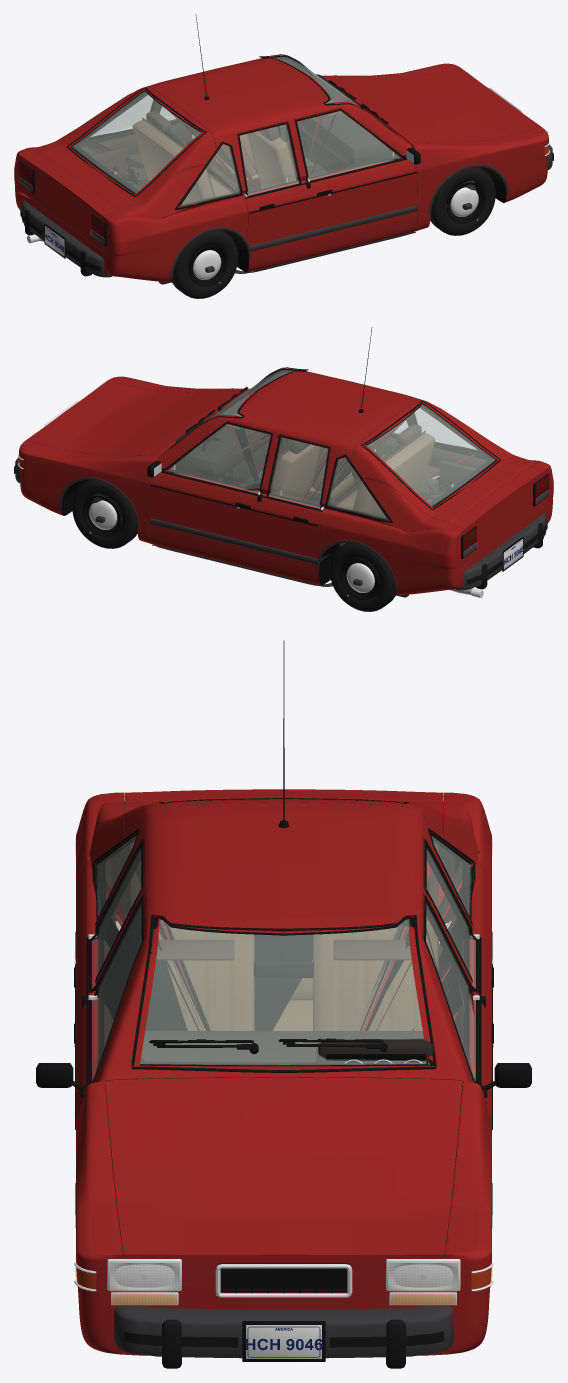
File: hatchback85.glb
The picture shows the model from 3 angles, top to bottom: view 1: azimuth 30°, elevation 25°; view 2: azimuth 150°, elevation 25°; view 3: azimuth 270°, elevation 25°; orthographic projection. The views are drawn at different scales.
Parts seen in each view (by area): view 1: Body, Interior, Hatch, Hood, Door_FR, Glass_Hatch, Door_RR, Glass_FR, Glass, Wheel_RR_mesh, Wheel_FR_mesh, Glass_RR (+8 smaller); view 2: Body, Interior, Hatch, Hood, Door_FL, Glass_Hatch, Door_RL, Glass_FL, Glass, Wheel_RL_mesh, Wheel_FL_mesh, Glass_RL (+7 smaller); view 3: Body, Hood, Glass, Interior, Ends, Bumper_F, Hatch, Lamps_Head, Trim, Door_FL, Glass_FR, Glass_FL (+10 smaller).
Boxes of the visible parts, x1,y1,x2,y2 form: Body: (14, 55, 548, 281); Interior: (91, 74, 392, 230); Hatch: (23, 86, 217, 250); Hood: (324, 68, 540, 170); Door_FR: (294, 108, 417, 256); Glass_Hatch: (67, 87, 206, 197); Door_RR: (237, 121, 311, 272); Glass_FR: (294, 108, 401, 181); Glass: (90, 54, 398, 207); Wheel_RR_mesh: (171, 229, 238, 298); Wheel_FR_mesh: (430, 167, 495, 235); Glass_RR: (237, 124, 301, 195); Body: (19, 368, 553, 594); Interior: (175, 401, 476, 546); Hatch: (350, 399, 544, 563); Hood: (27, 381, 246, 457); Door_FL: (150, 421, 273, 569); Glass_Hatch: (361, 400, 500, 510); Door_RL: (256, 434, 330, 585); Glass_FL: (167, 422, 273, 494); Glass: (169, 367, 477, 520); Wheel_RL_mesh: (329, 543, 396, 611); Wheel_FL_mesh: (72, 480, 137, 548); Glass_RL: (266, 437, 330, 509); Body: (76, 792, 491, 1355); Hood: (105, 1077, 462, 1272); Glass: (96, 833, 471, 1072); Interior: (129, 841, 438, 1078); Ends: (74, 801, 493, 1361); Bumper_F: (114, 1305, 453, 1368); Hatch: (124, 789, 443, 857); Lamps_Head: (110, 1264, 457, 1291); Trim: (75, 640, 492, 1227); Door_FL: (422, 894, 491, 1122); Glass_FR: (92, 904, 141, 1080); Glass_FL: (422, 895, 475, 1080).
Bounding box in the file's own units: 4.33 × 2.14 × 1.99.
Materials: 33 (5 with a texture image).
